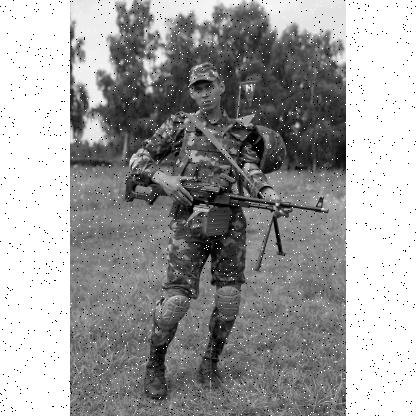gun: (123, 178, 327, 268)
